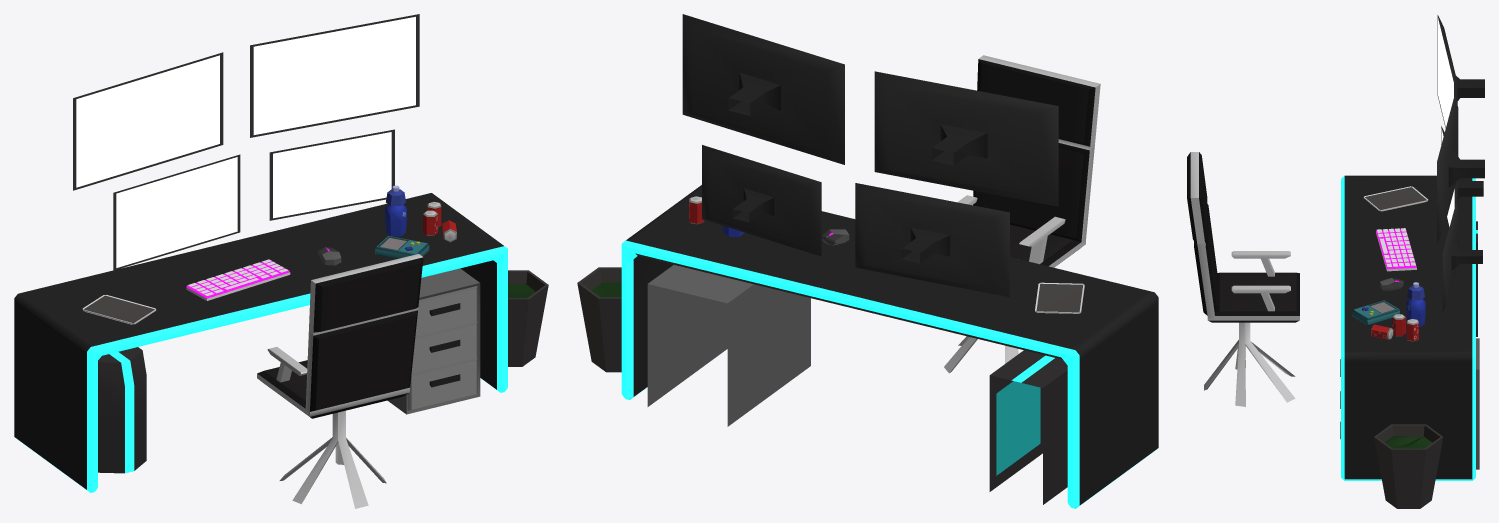
The model's file is tradingDesk2.glb.
3 views of the same model, side by side, from view 1: azimuth 30°, elevation 25°; view 2: azimuth 150°, elevation 25°; view 3: azimuth 270°, elevation 25° (orthographic). The views are drawn at different scales.
Parts seen in each view (by area): view 1: Desk, Screen2, Screen1, Screen3, Screen4; view 2: Desk; view 3: Desk, Screen1.
Part boxes in pixels (bbox=[...]): Desk: bbox=[14, 14, 548, 508]; Screen2: bbox=[253, 16, 415, 134]; Screen1: bbox=[76, 55, 219, 187]; Screen3: bbox=[116, 157, 237, 267]; Screen4: bbox=[273, 132, 391, 218]; Desk: bbox=[577, 14, 1158, 508]; Desk: bbox=[1187, 15, 1484, 508]; Screen1: bbox=[1438, 18, 1453, 126].
Size of the model in its own units: 13.26 by 9.07 by 7.98.
Materials: 6 (2 with a texture image).
